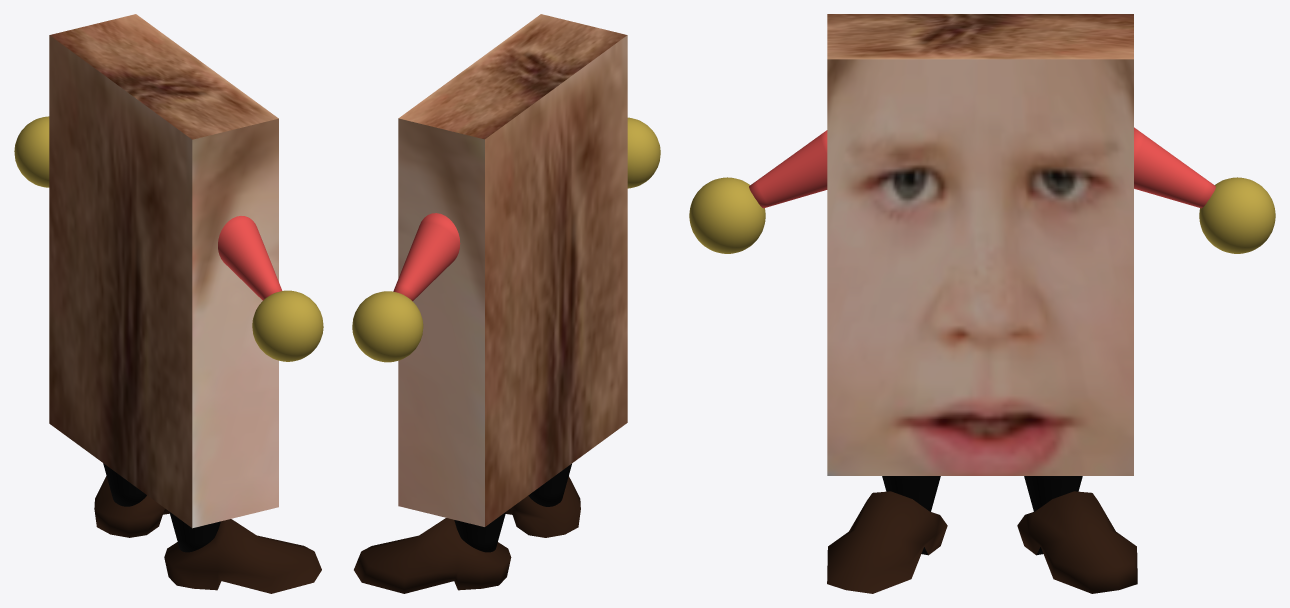
The model's file is thwomp.fbx.
3 renders of one model, left to right at view 1: azimuth 30°, elevation 25°; view 2: azimuth 150°, elevation 25°; view 3: azimuth 270°, elevation 25°, orthographic. The views are drawn at different scales.
Parts seen in each view (by area): view 1: Thwomp; view 2: Thwomp; view 3: Thwomp.
Part boxes in pixels (x1,y1,x2,y2): Thwomp: [14, 14, 323, 593]; Thwomp: [352, 14, 660, 593]; Thwomp: [689, 14, 1275, 593].
Size of the model in its own units: 454 by 1464 by 1531.
